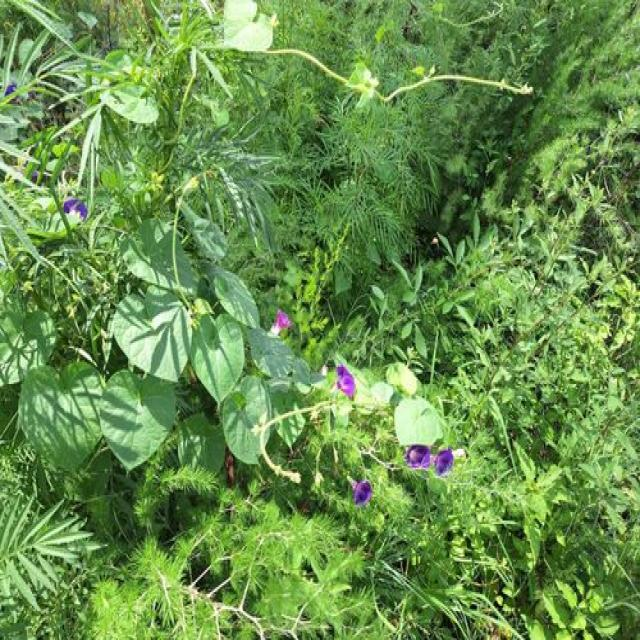ipomoea: (400, 439, 460, 481), (329, 358, 360, 404), (399, 440, 434, 476), (57, 193, 91, 229), (347, 474, 376, 514), (265, 304, 294, 343), (430, 442, 458, 481)
